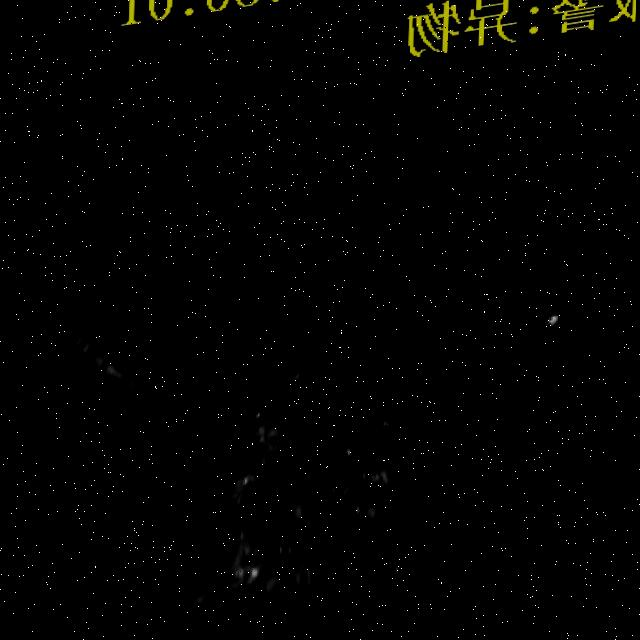bolt: (195, 387, 367, 614)
large_sized_coal: (228, 425, 283, 516), (258, 568, 329, 606)
